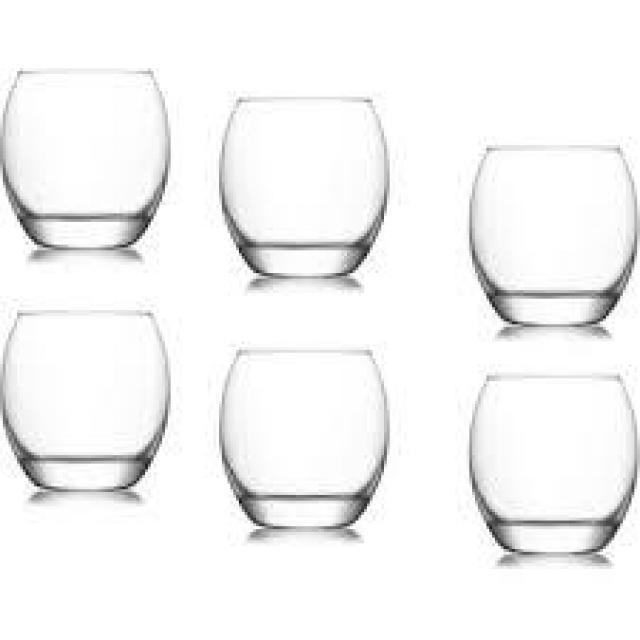glass: (221, 94, 391, 279)
